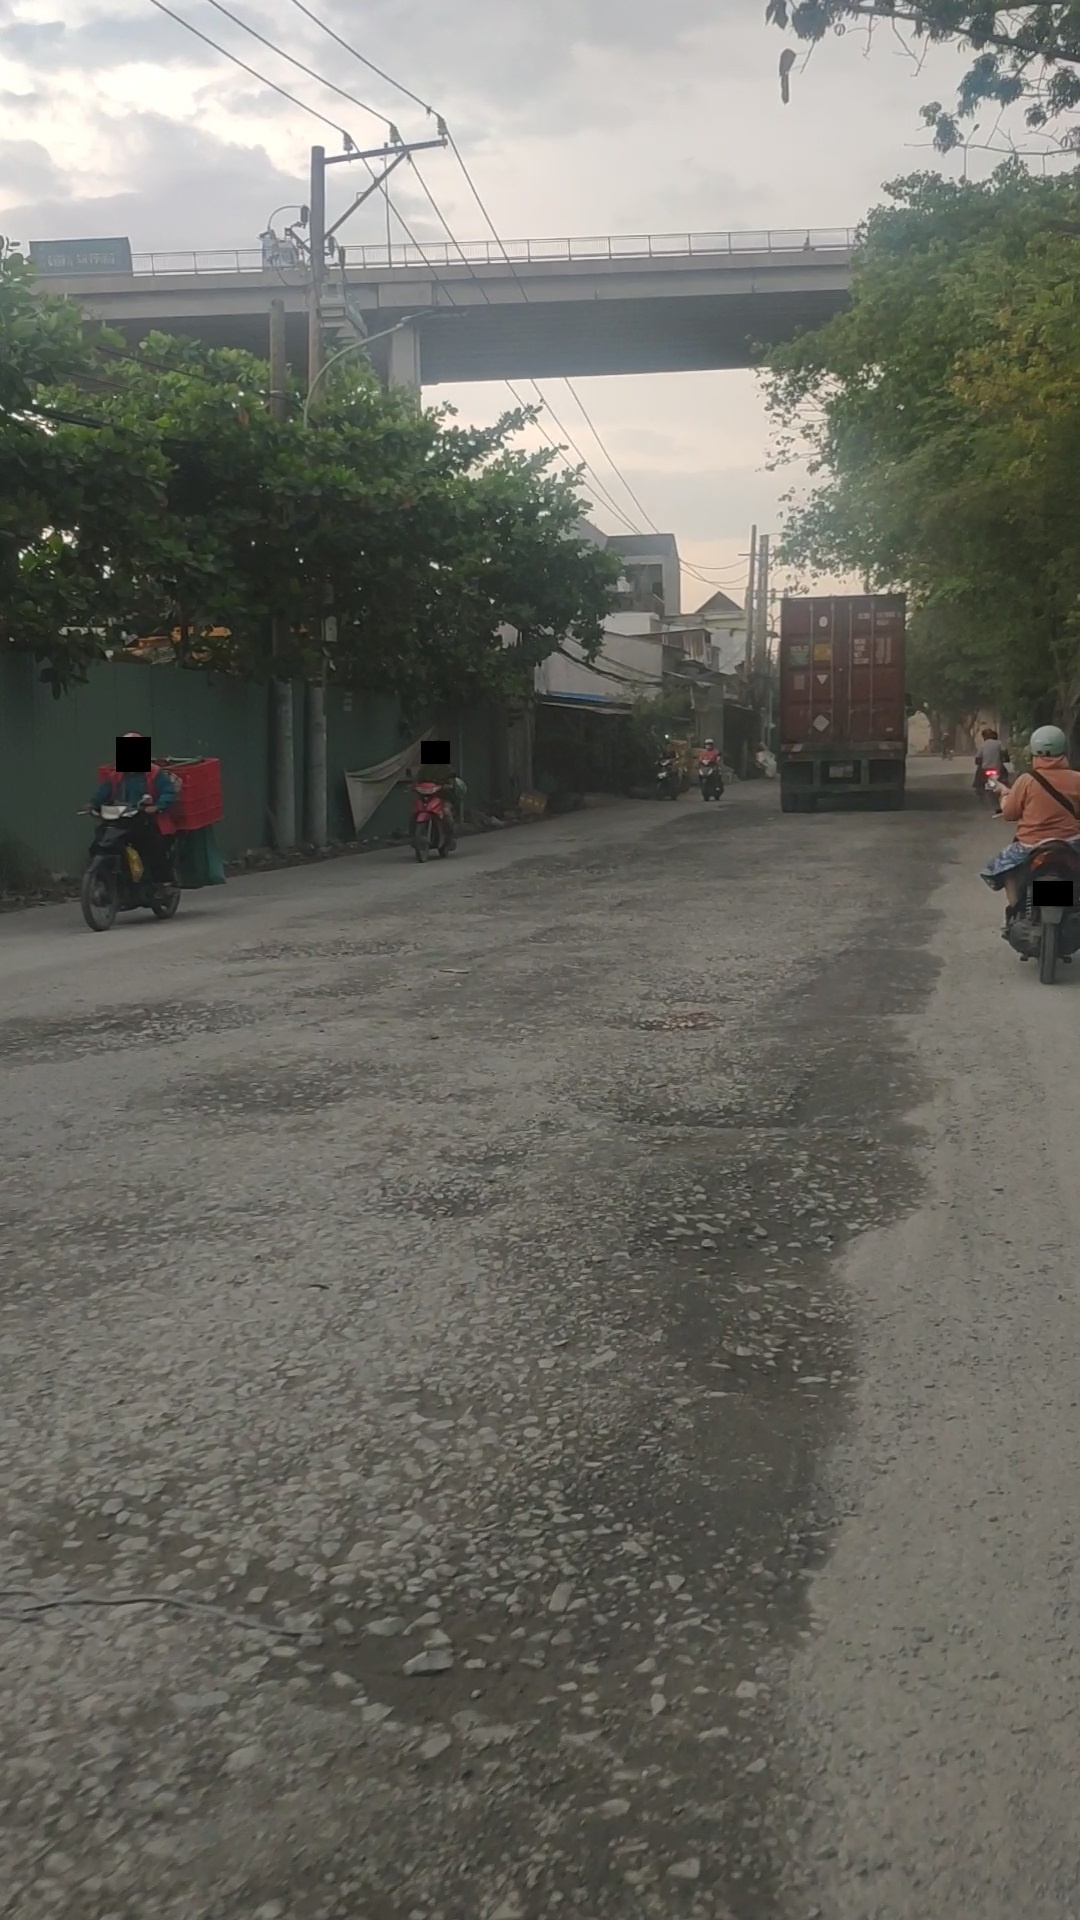hole: (597, 1143, 952, 1283), (128, 1048, 385, 1133), (1, 990, 258, 1073), (558, 1071, 841, 1146), (189, 928, 423, 972), (365, 1172, 524, 1226), (483, 843, 659, 886), (286, 961, 425, 1010), (578, 1002, 731, 1038), (429, 1135, 539, 1178), (517, 918, 609, 953), (605, 889, 688, 913)
